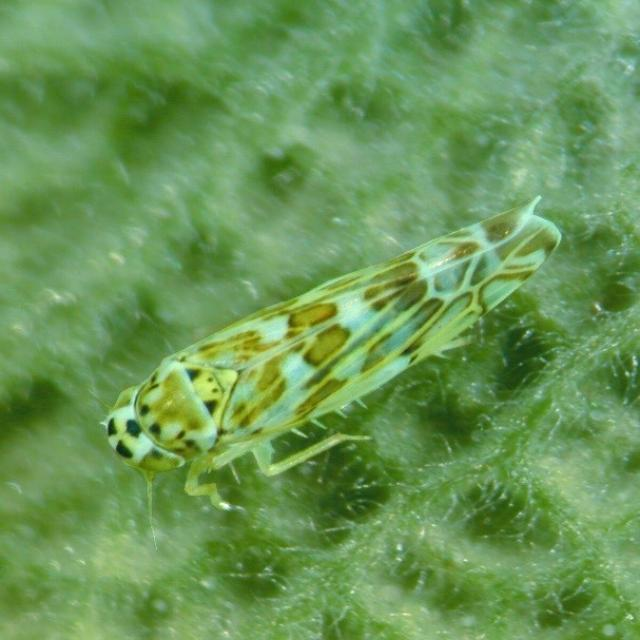Yechan: (91, 184, 576, 509)
